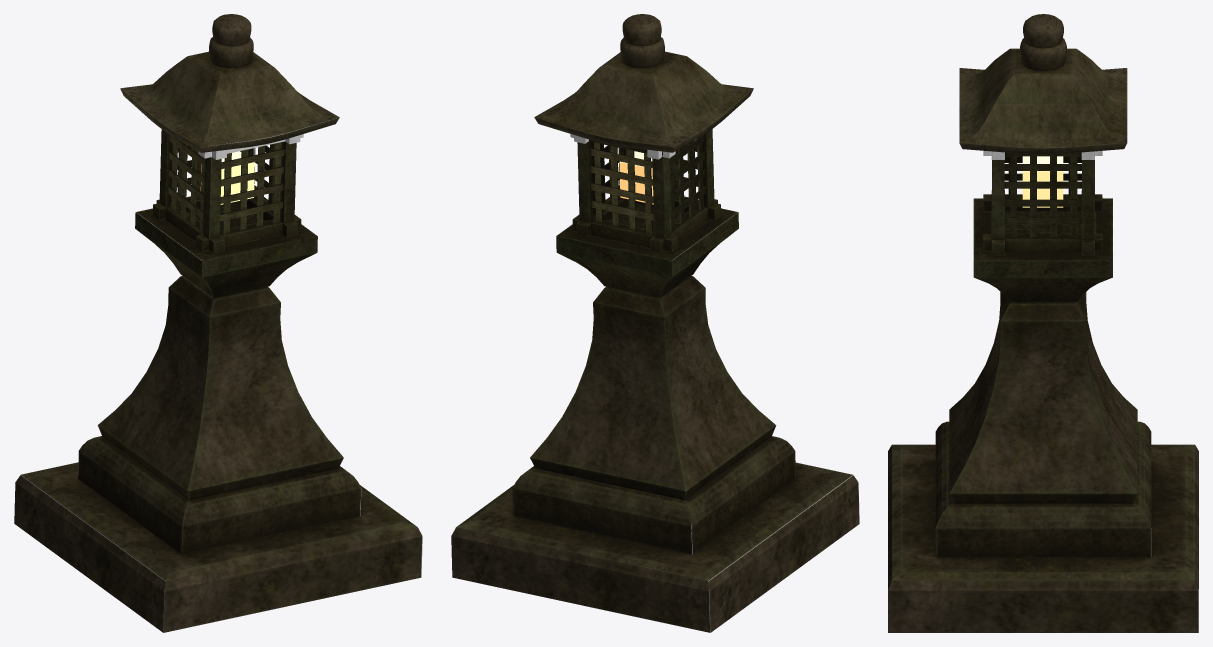
File: lamp.fbx
The picture shows the model from 3 angles, left to right: view 1: azimuth 30°, elevation 25°; view 2: azimuth 150°, elevation 25°; view 3: azimuth 270°, elevation 25°; orthographic projection. The views are drawn at different scales.
Parts seen in each view (by area): view 1: SO_002_Top_Ball_002, Cube; view 2: SO_002_Top_Ball_002, Cube; view 3: SO_002_Top_Ball_002, Cube.
Boxes of the visible parts, box(x1,y1,x2,y2) form: SO_002_Top_Ball_002: box(14, 14, 422, 632); Cube: box(200, 151, 254, 204); SO_002_Top_Ball_002: box(451, 14, 859, 632); Cube: box(619, 151, 653, 204); SO_002_Top_Ball_002: box(888, 14, 1198, 632); Cube: box(1022, 156, 1063, 207).
Bounding box in the file's own units: 53.78 × 106 × 53.58.
2 materials, 1 textured.
